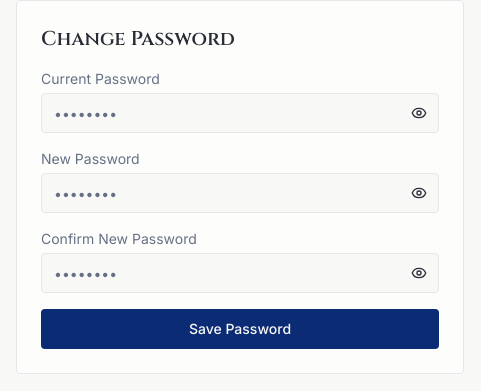
Test: ChangePassword page › toggle visibility for each password field
This screenshot has width=481, height=391.
Click first toggle and ensure aria-pressed updates
Click the button named "show" below "Current Password": click(419, 113) left=403, top=95, right=435, bottom=131
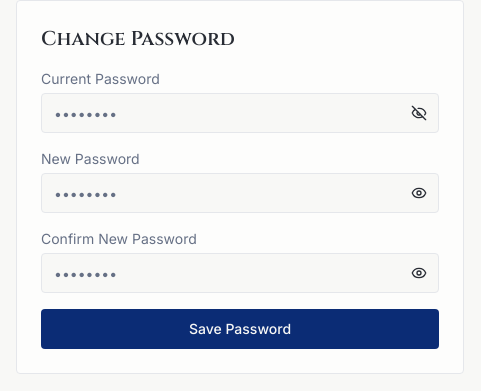
Check: the button named "show" is pressed, box left=403, top=95, right=435, bottom=131
